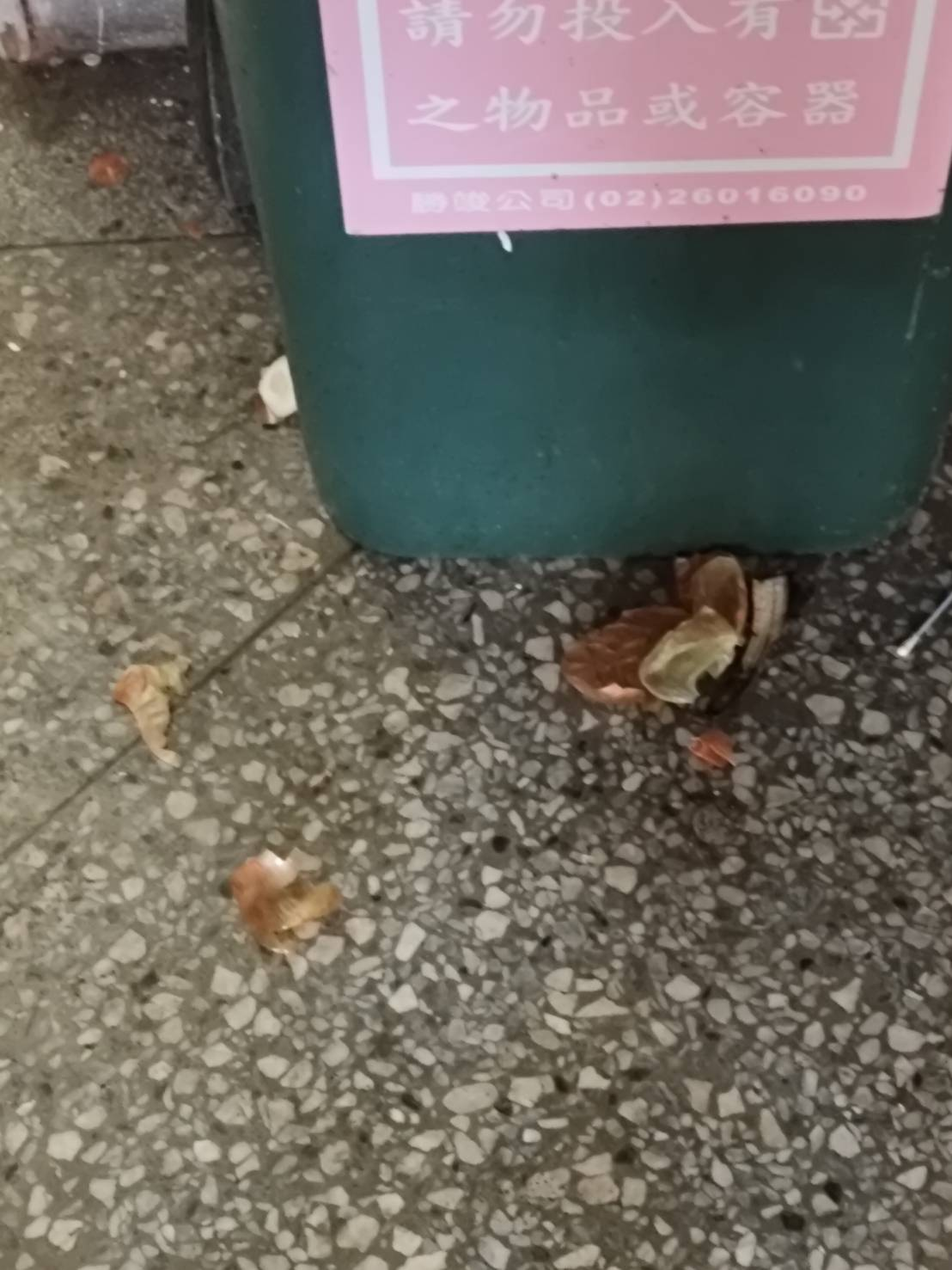General waste: (398, 470, 952, 834), (57, 602, 375, 986), (54, 92, 180, 258), (189, 289, 312, 456)
